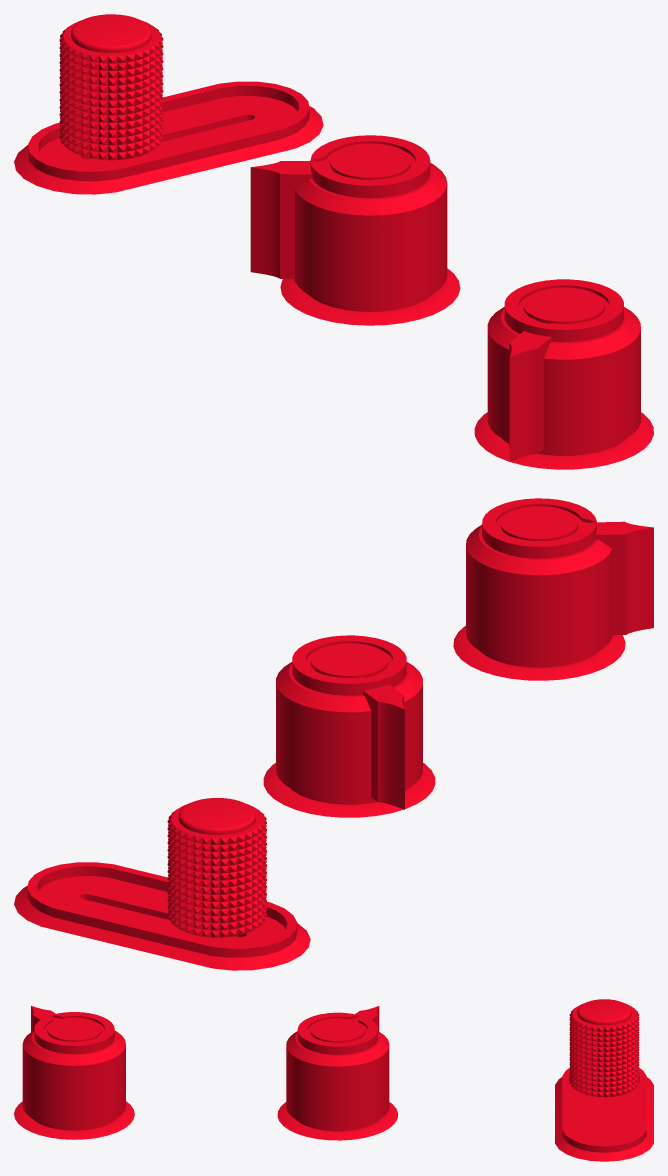
File: RED_RED_Button_B.glb
3 views of the same model, one above another, from view 1: azimuth 30°, elevation 25°; view 2: azimuth 150°, elevation 25°; view 3: azimuth 270°, elevation 25° (orthographic). The views are drawn at different scales.
Parts seen in each view (by area): view 1: RED_Button_B; view 2: RED_Button_B; view 3: RED_Button_B.
Boxes of the visible parts, x1=… form: RED_Button_B: x1=14, y1=14, x2=653, y2=469; RED_Button_B: x1=14, y1=498, x2=653, y2=970; RED_Button_B: x1=14, y1=999, x2=653, y2=1161.
Size of the model in its own units: 0.0339 by 0.0154 by 0.0965.
